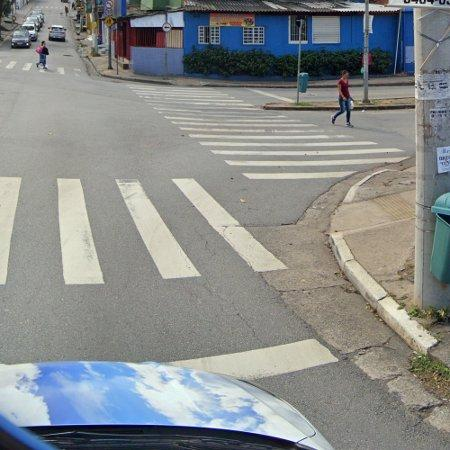crosswalks: (124, 86, 412, 181)
